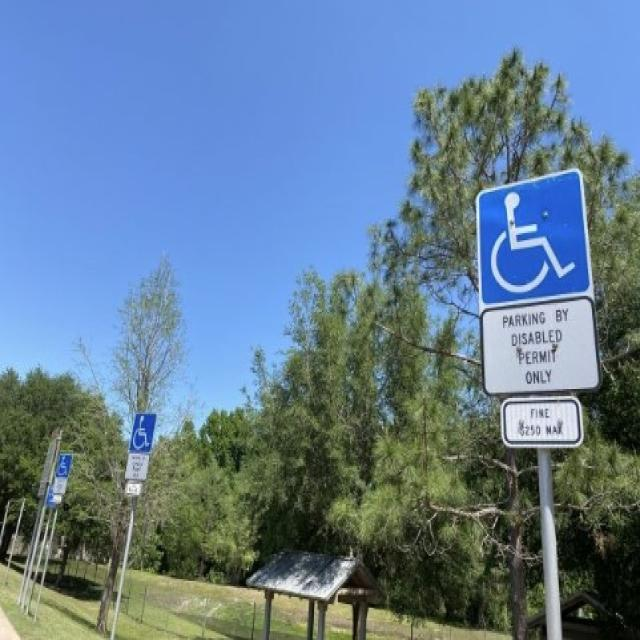symbol_of_access: (473, 164, 593, 310), (126, 408, 158, 453), (53, 450, 73, 481)
